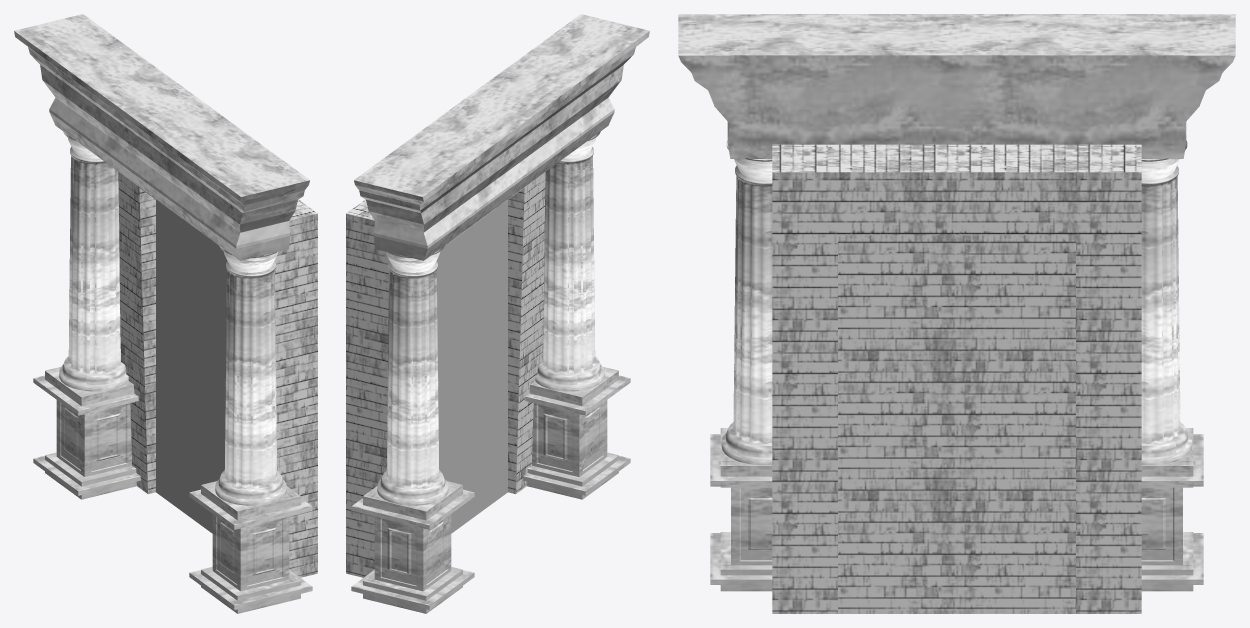
File: LargeDoors1.fbx
3 renders of one model, left to right at view 1: azimuth 30°, elevation 25°; view 2: azimuth 150°, elevation 25°; view 3: azimuth 270°, elevation 25°, orthographic. The views are drawn at different scales.
Parts seen in each view (by area): view 1: DoorColumns, DoorRoof, DoorBrick, DoorR, DoorL; view 2: DoorColumns, DoorRoof, DoorBrick, DoorL, DoorR; view 3: DoorBrick, DoorRoof, DoorColumns.
Part boxes in pixels (bbox=[...]): DoorColumns: bbox=[33, 131, 312, 613]; DoorRoof: bbox=[14, 14, 309, 260]; DoorBrick: bbox=[118, 172, 317, 577]; DoorR: bbox=[156, 200, 204, 527]; DoorL: bbox=[204, 236, 227, 533]; DoorColumns: bbox=[351, 131, 630, 613]; DoorRoof: bbox=[354, 14, 649, 260]; DoorBrick: bbox=[346, 172, 545, 577]; DoorL: bbox=[459, 200, 507, 527]; DoorR: bbox=[436, 236, 459, 533]; DoorBrick: bbox=[772, 144, 1141, 613]; DoorRoof: bbox=[678, 14, 1235, 158]; DoorColumns: bbox=[710, 140, 1203, 591].
Bounding box in the file's own units: 3776 × 13569 × 12904.
